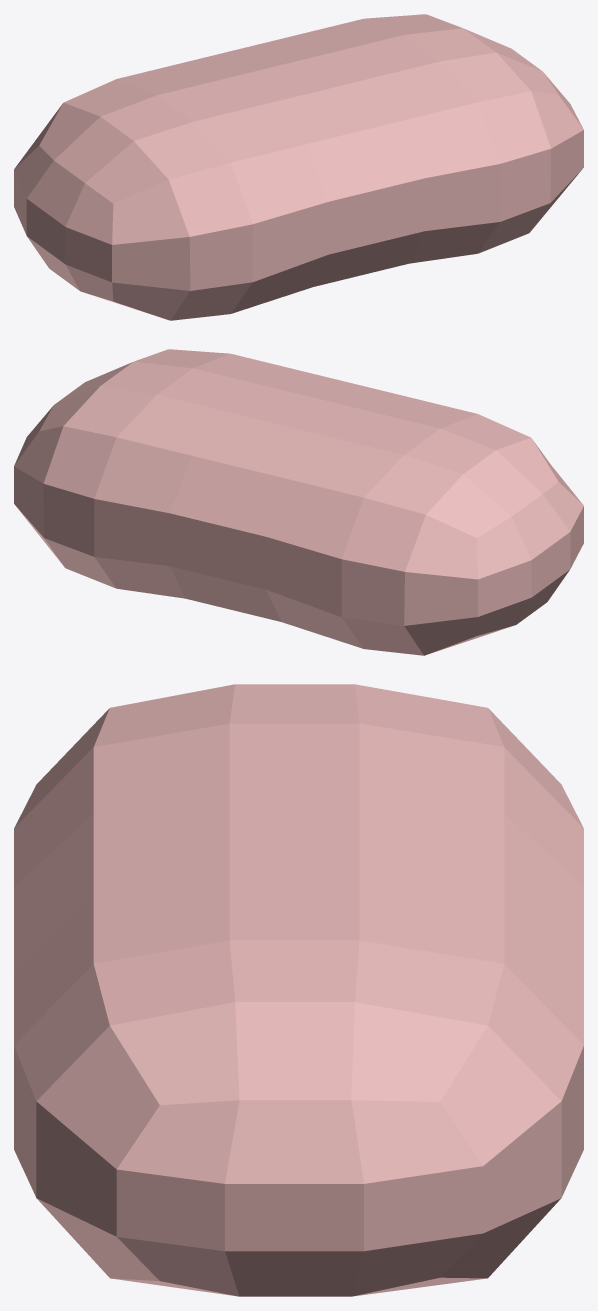
The model's file is soap.fbx.
3 views of the same model, one above another, from view 1: azimuth 30°, elevation 25°; view 2: azimuth 150°, elevation 25°; view 3: azimuth 270°, elevation 25° (orthographic). The views are drawn at different scales.
Parts seen in each view (by area): view 1: pasted__polySurface46; view 2: pasted__polySurface46; view 3: pasted__polySurface46.
Boxes of the visible parts, x1,y1,x2,y2 form: pasted__polySurface46: (14,14,583,320); pasted__polySurface46: (14,349,583,655); pasted__polySurface46: (14,684,583,1296).
Size of the model in its own units: 3.32 by 1.03 by 1.81.
